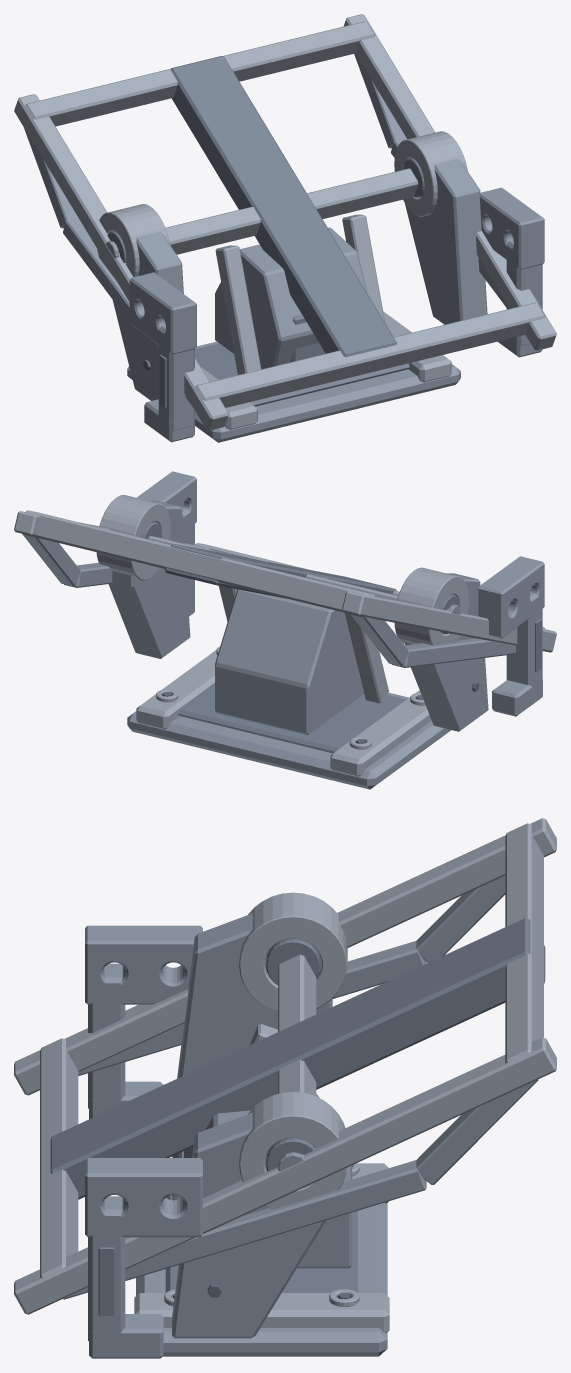
File: warden-pod-b-mount-v1.glb
3 views of the same model, one above another, from view 1: azimuth 30°, elevation 25°; view 2: azimuth 150°, elevation 25°; view 3: azimuth 270°, elevation 25° (orthographic). The views are drawn at different scales.
Visible parts, largest first — view 1: Cradle_B, Mount_B; view 2: Mount_B, Cradle_B; view 3: Cradle_B, Mount_B.
Boxes of the visible parts, box(x1,y1,x2,y2) form: Cradle_B: box(14, 14, 556, 430); Mount_B: box(97, 131, 544, 442); Mount_B: box(96, 471, 544, 789); Cradle_B: box(14, 510, 556, 667); Cradle_B: box(14, 818, 556, 1314); Mount_B: box(85, 892, 389, 1358).
Bounding box in the file's own units: 1.52 × 0.9671 × 1.38.
